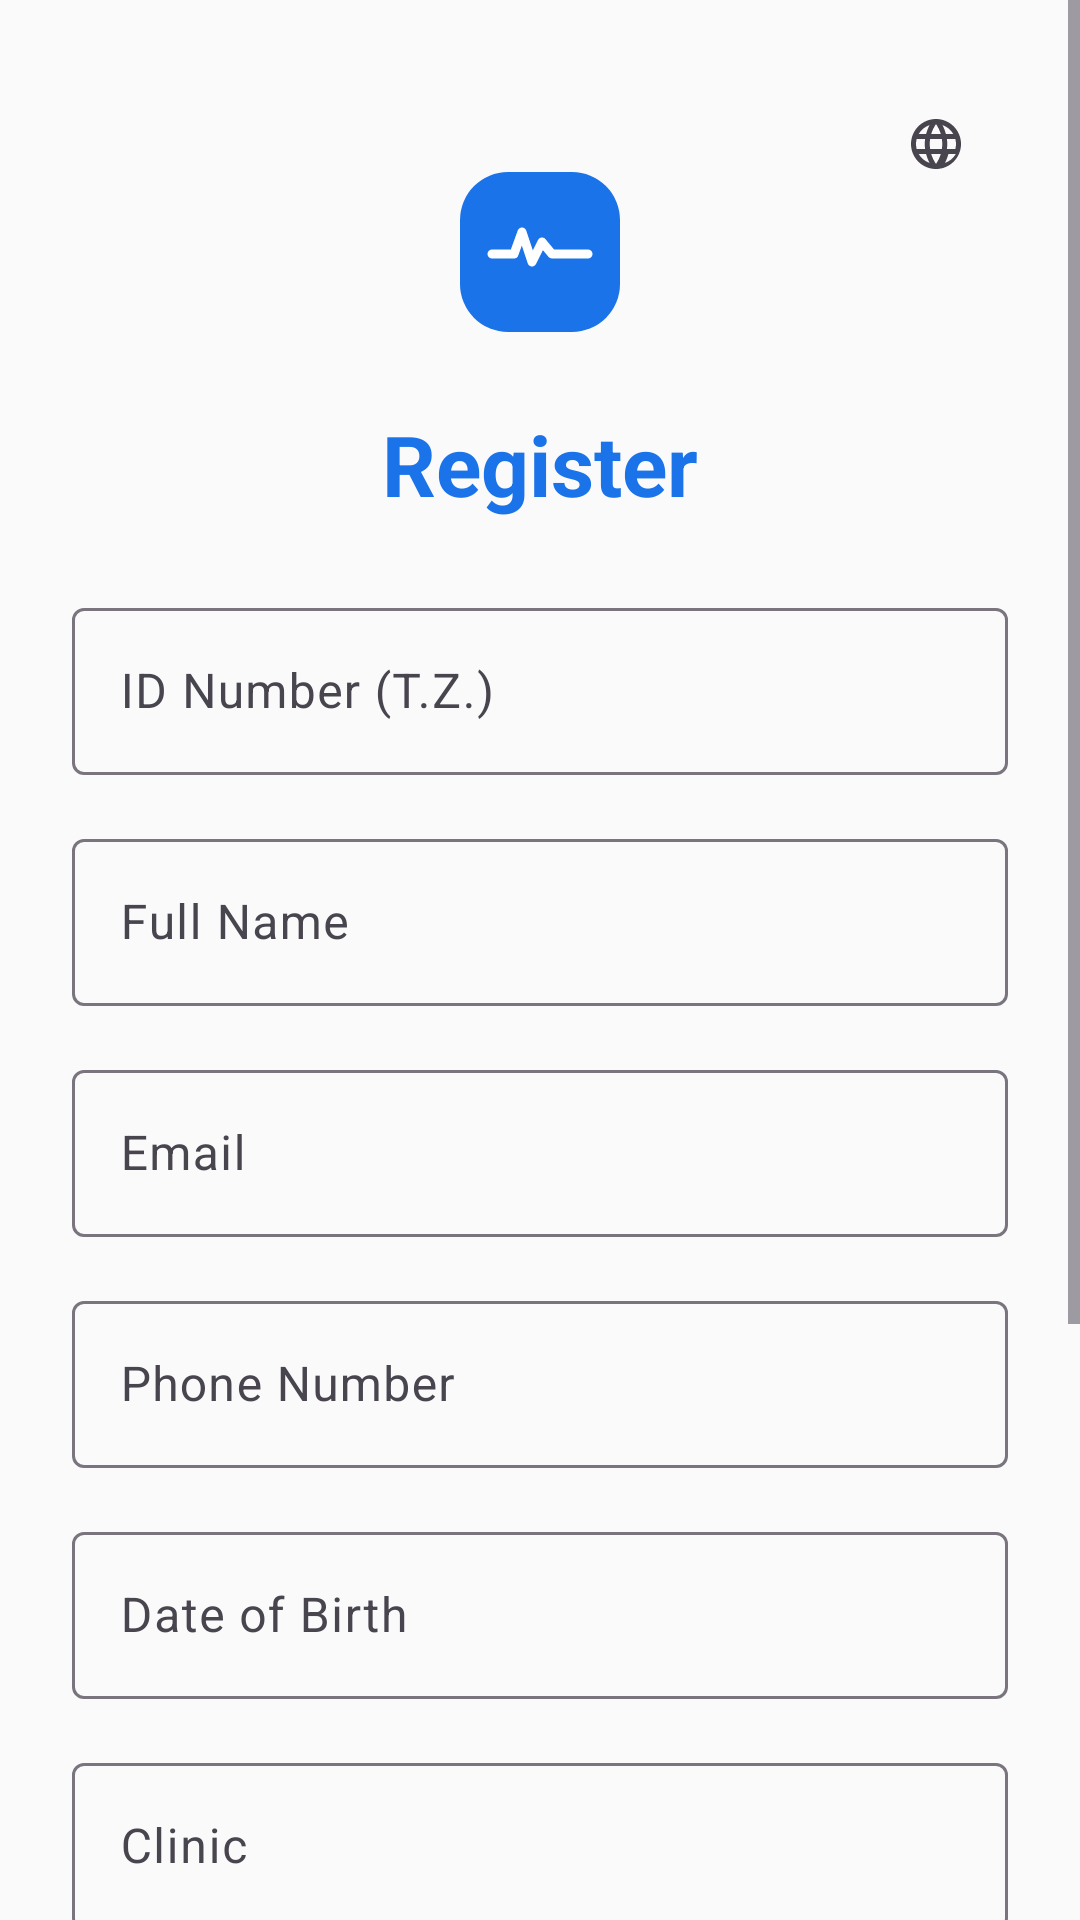

Screen size 1080px x 1920px. Icon name, then its box in pixels as bbox=[x1, y1, x2, y2]:
Language: bbox=[911, 119, 961, 169]
